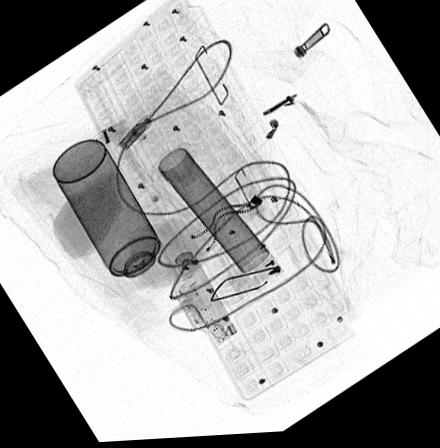Sprayer: (50, 140, 179, 308)
